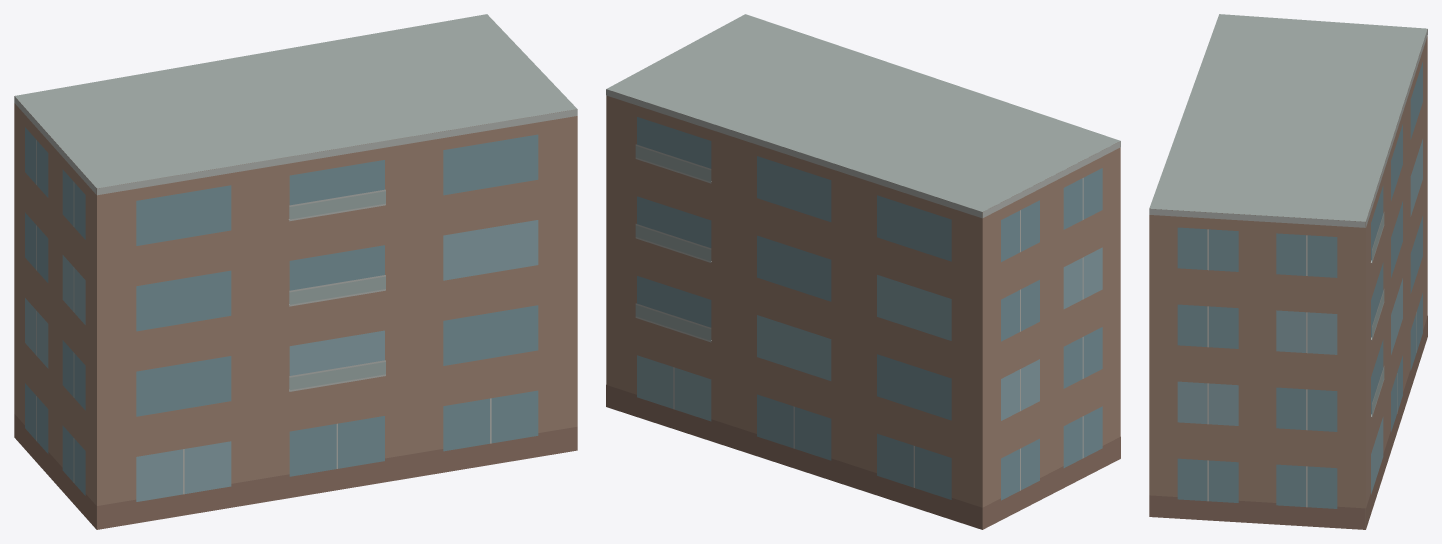
The model's file is survey-upis-32567975.glb.
3 views of the same model, side by side, from view 1: azimuth 30°, elevation 25°; view 2: azimuth 150°, elevation 25°; view 3: azimuth 270°, elevation 25° (orthographic). The views are drawn at different scales.
Parts seen in each view (by area): view 1: survey-upis-32567975.tmp; view 2: survey-upis-32567975.tmp; view 3: survey-upis-32567975.tmp.
Boxes of the visible parts, x1,y1,x2,y2 form: survey-upis-32567975.tmp: (14, 14, 577, 529); survey-upis-32567975.tmp: (606, 14, 1120, 529); survey-upis-32567975.tmp: (1149, 14, 1427, 529).
Bounding box in the file's own units: 17.64 × 12.2 × 10.01.
